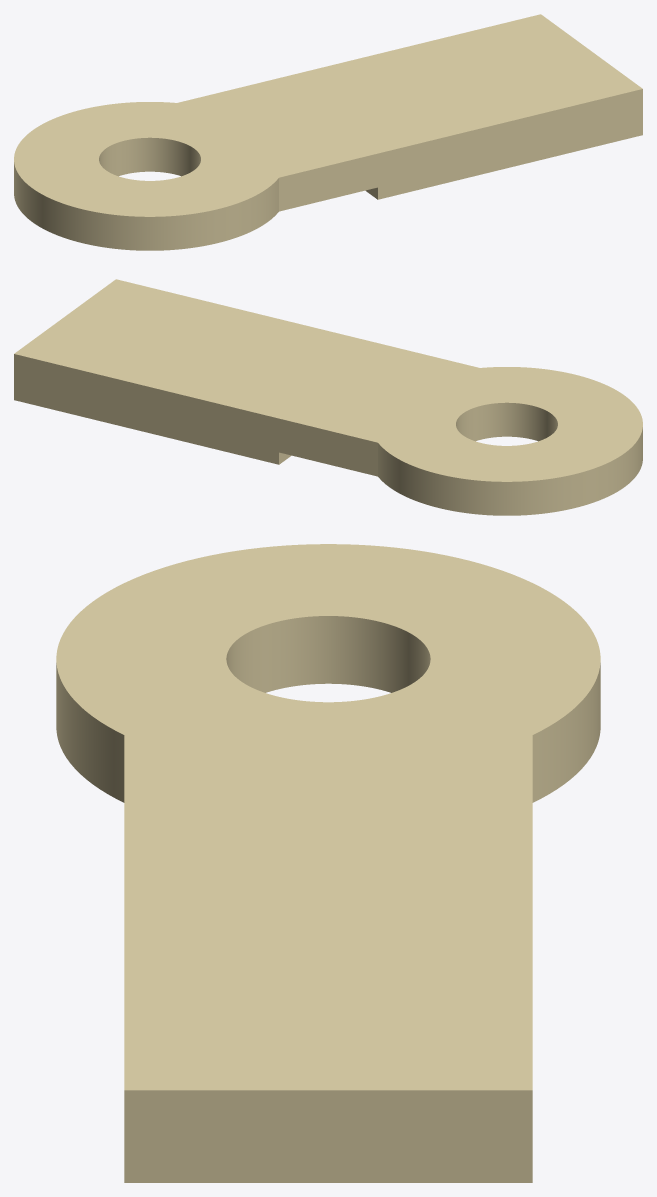
The model's file is distributor-rotor-contact.glb.
The picture shows the model from 3 angles, top to bottom: view 1: azimuth 30°, elevation 25°; view 2: azimuth 150°, elevation 25°; view 3: azimuth 270°, elevation 25°; orthographic projection. The views are drawn at different scales.
Parts seen in each view (by area): view 1: world; view 2: world; view 3: world.
Boxes of the visible parts, bbox=[...] form: world: bbox=[14, 14, 642, 250]; world: bbox=[14, 279, 642, 515]; world: bbox=[56, 544, 600, 1182].
Bounding box in the file's own units: 0.019 × 0.0015 × 0.008.
